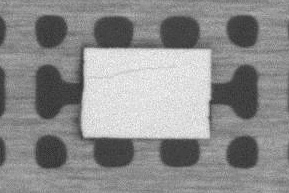DIE_CRACK: (85, 66, 175, 80)
